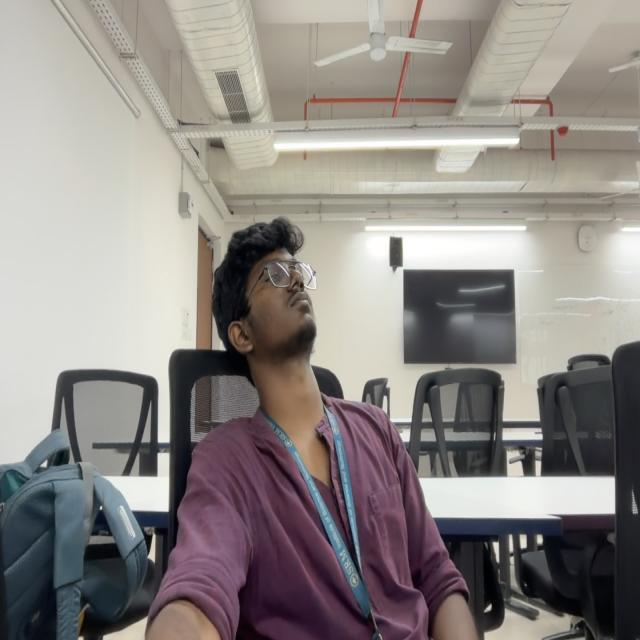ravindra: (212, 216, 318, 366)
